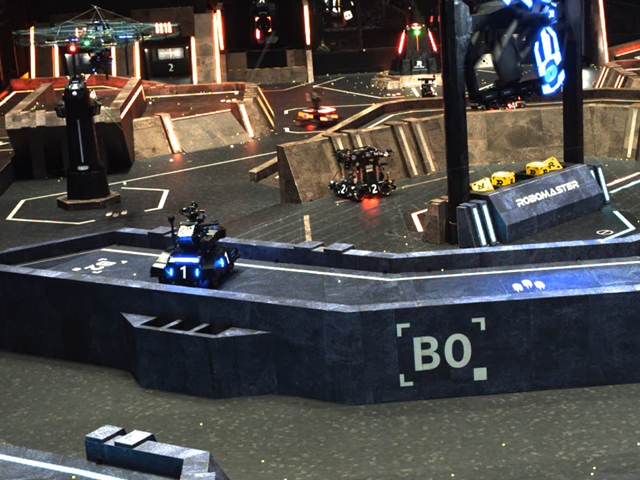rm: (149, 205, 245, 293), (12, 5, 179, 48), (330, 144, 399, 202), (292, 96, 339, 132), (415, 75, 438, 96)
